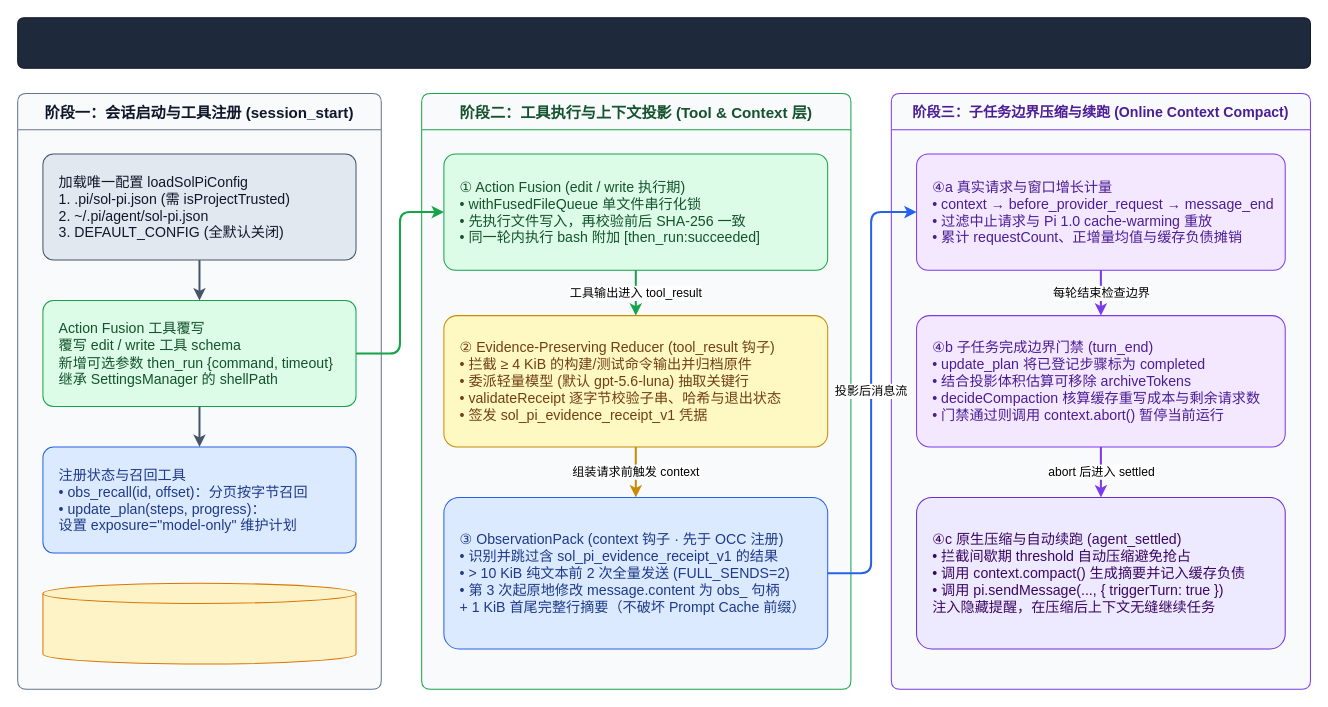
Image size: 1328x707. Some labels were removed from this diagram. Each missing label, with the centre of its shape:
"SoL-Pi 在 Pi Agent Loop 中的生命周期挂载与四机制协同链路（零侵入扩展架构）" goes at pixel 663 42.
"初始化会话级存储 runtimeRoot {sessionDir}/sol-pi/{sessionId}/ 无会话模式自动降级至 os.tmpdir()" goes at pixel 199 623.
